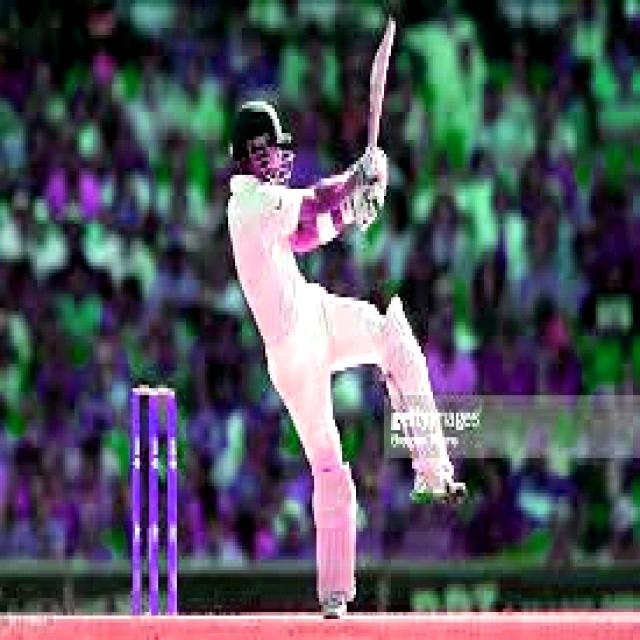toe: (376, 23, 400, 66)
